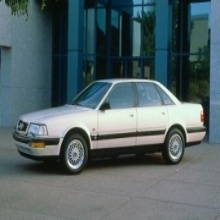no damage: (13, 77, 207, 175)
